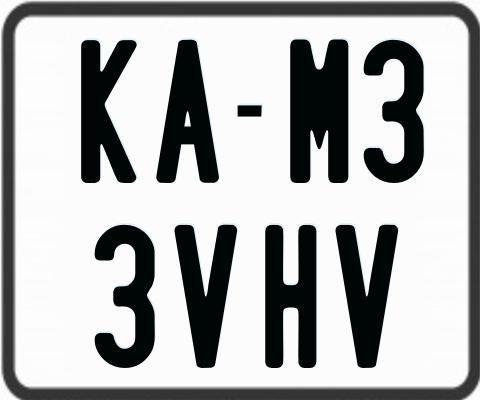3: (363, 39, 429, 188), (92, 222, 158, 371)
A: (155, 39, 222, 186)
H: (264, 225, 315, 370)
K: (78, 40, 135, 188)
M: (289, 39, 347, 189)
V: (175, 224, 242, 367), (334, 224, 398, 371)
